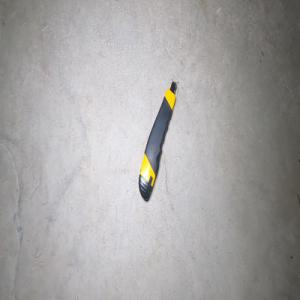Cutter: (138, 80, 177, 202)
